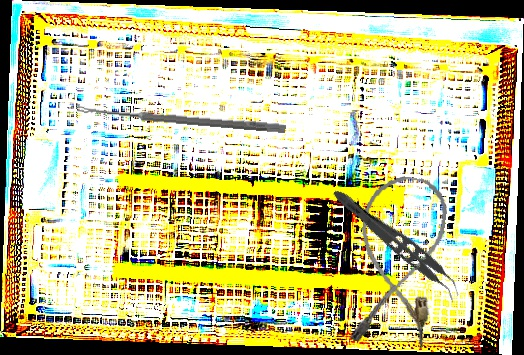Cannula: (344, 171, 452, 352)
Surgical Spoon: (76, 104, 287, 134)
Tissue Forceps: (323, 185, 468, 304)
